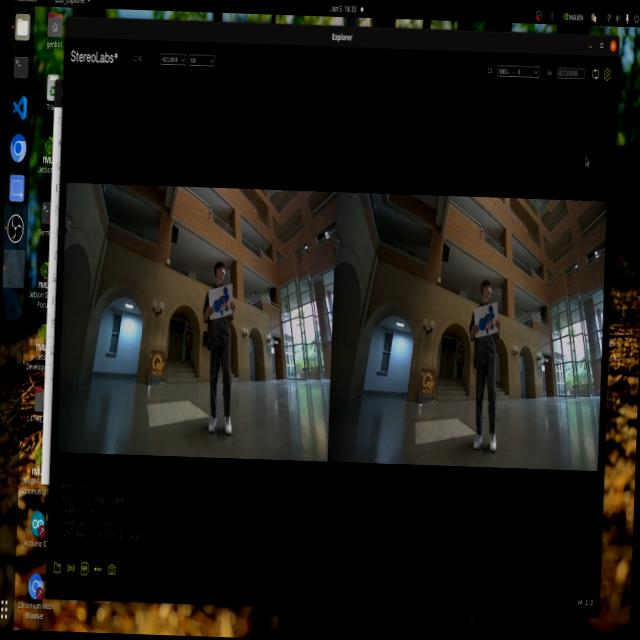blue: (202, 276, 240, 322), (471, 302, 497, 340)
